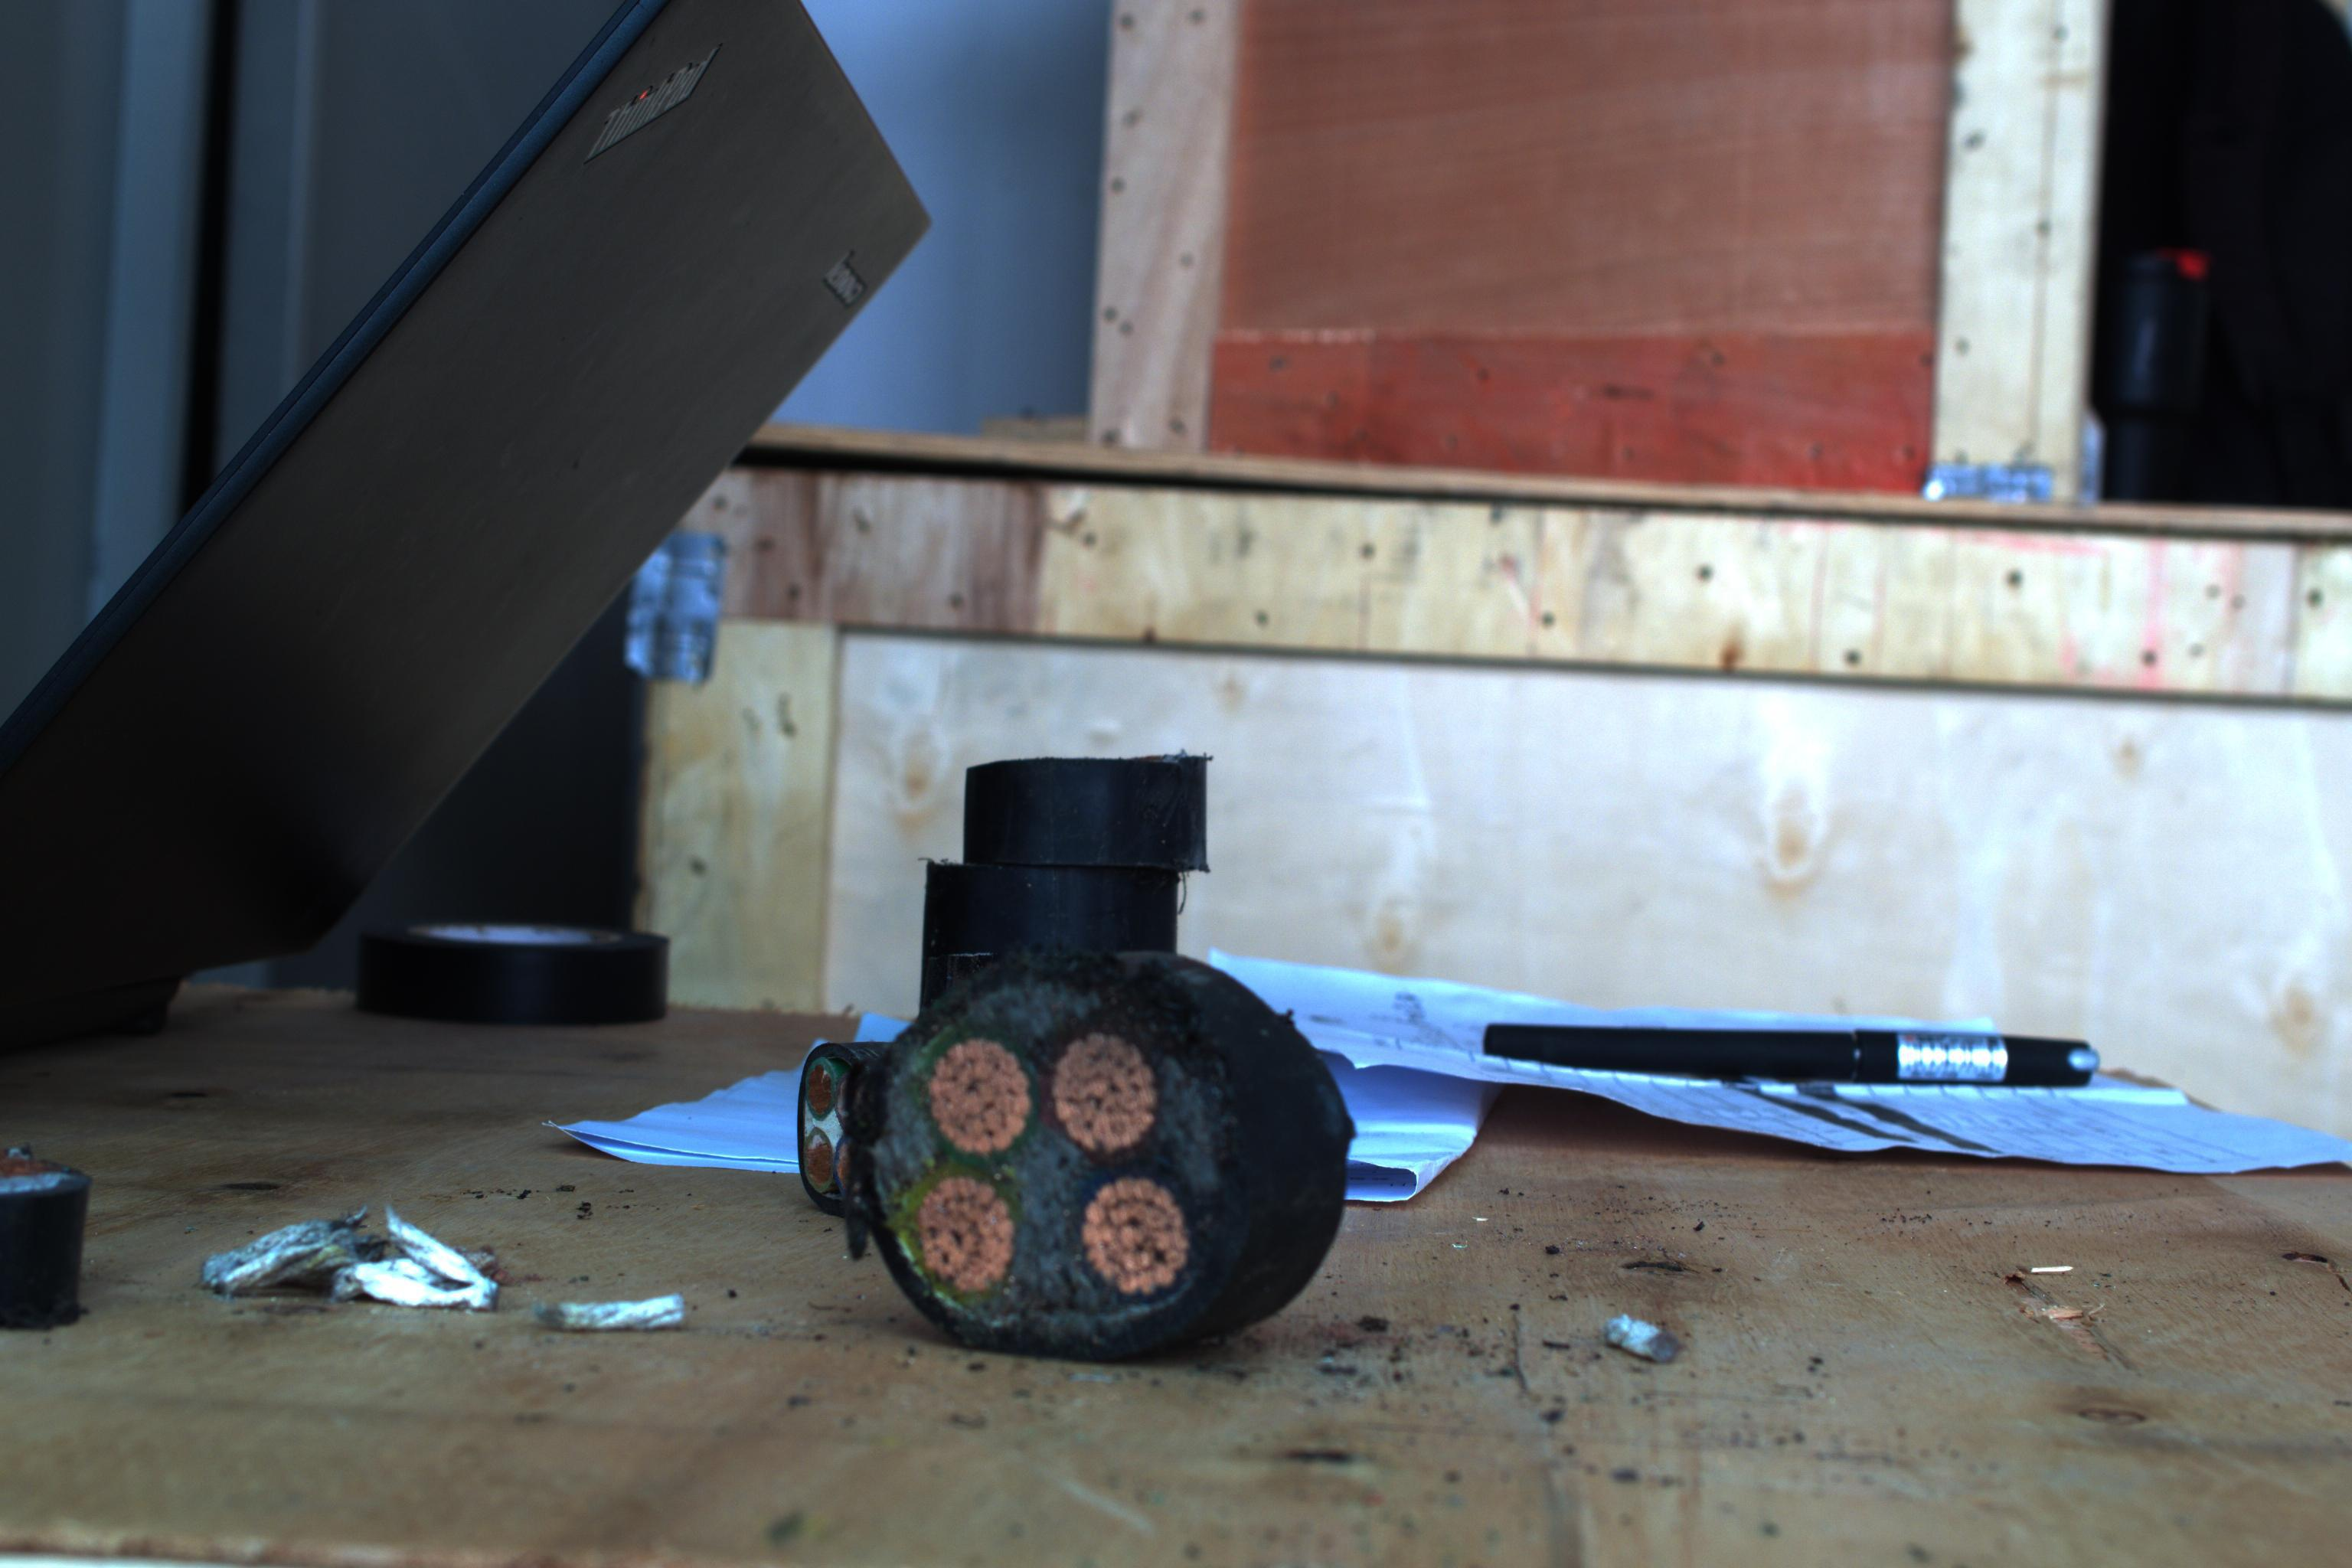YJV_0.6_1kV_4x120: (863, 954, 1249, 1354)
